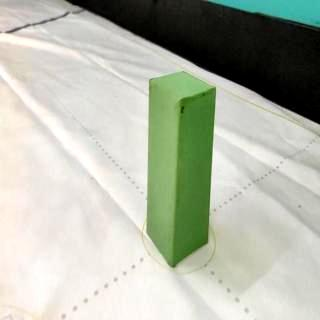greenbox: (146, 69, 216, 268)
